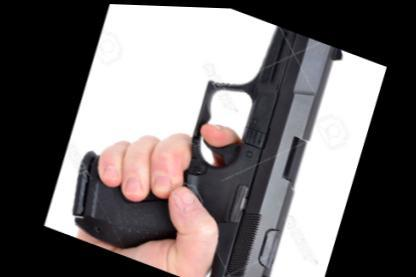pistol: (48, 1, 357, 275)
